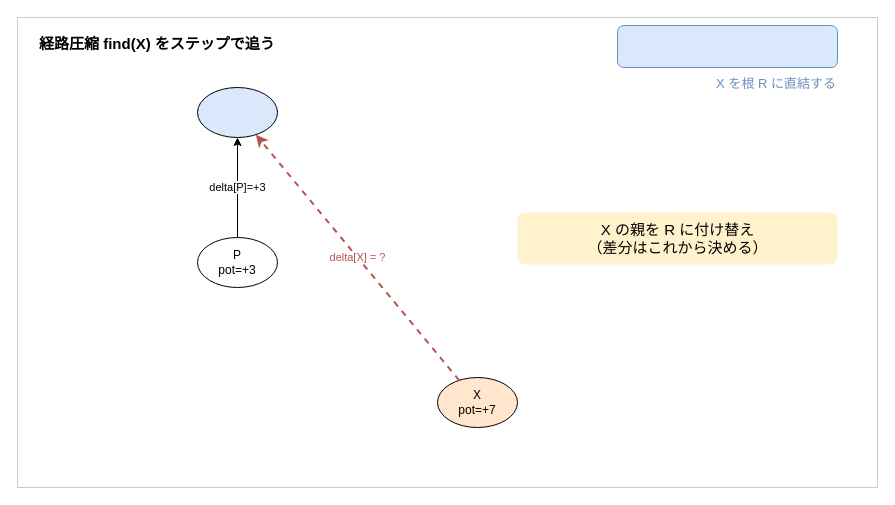
This 895x505 diagram has some shape labels left out. The shapes that lost their labels are listed below. From the top down, each one's centre as x and y in pixels, then its label:
point 727,46: STEP 3 / 5
point 237,112: R pot=0
